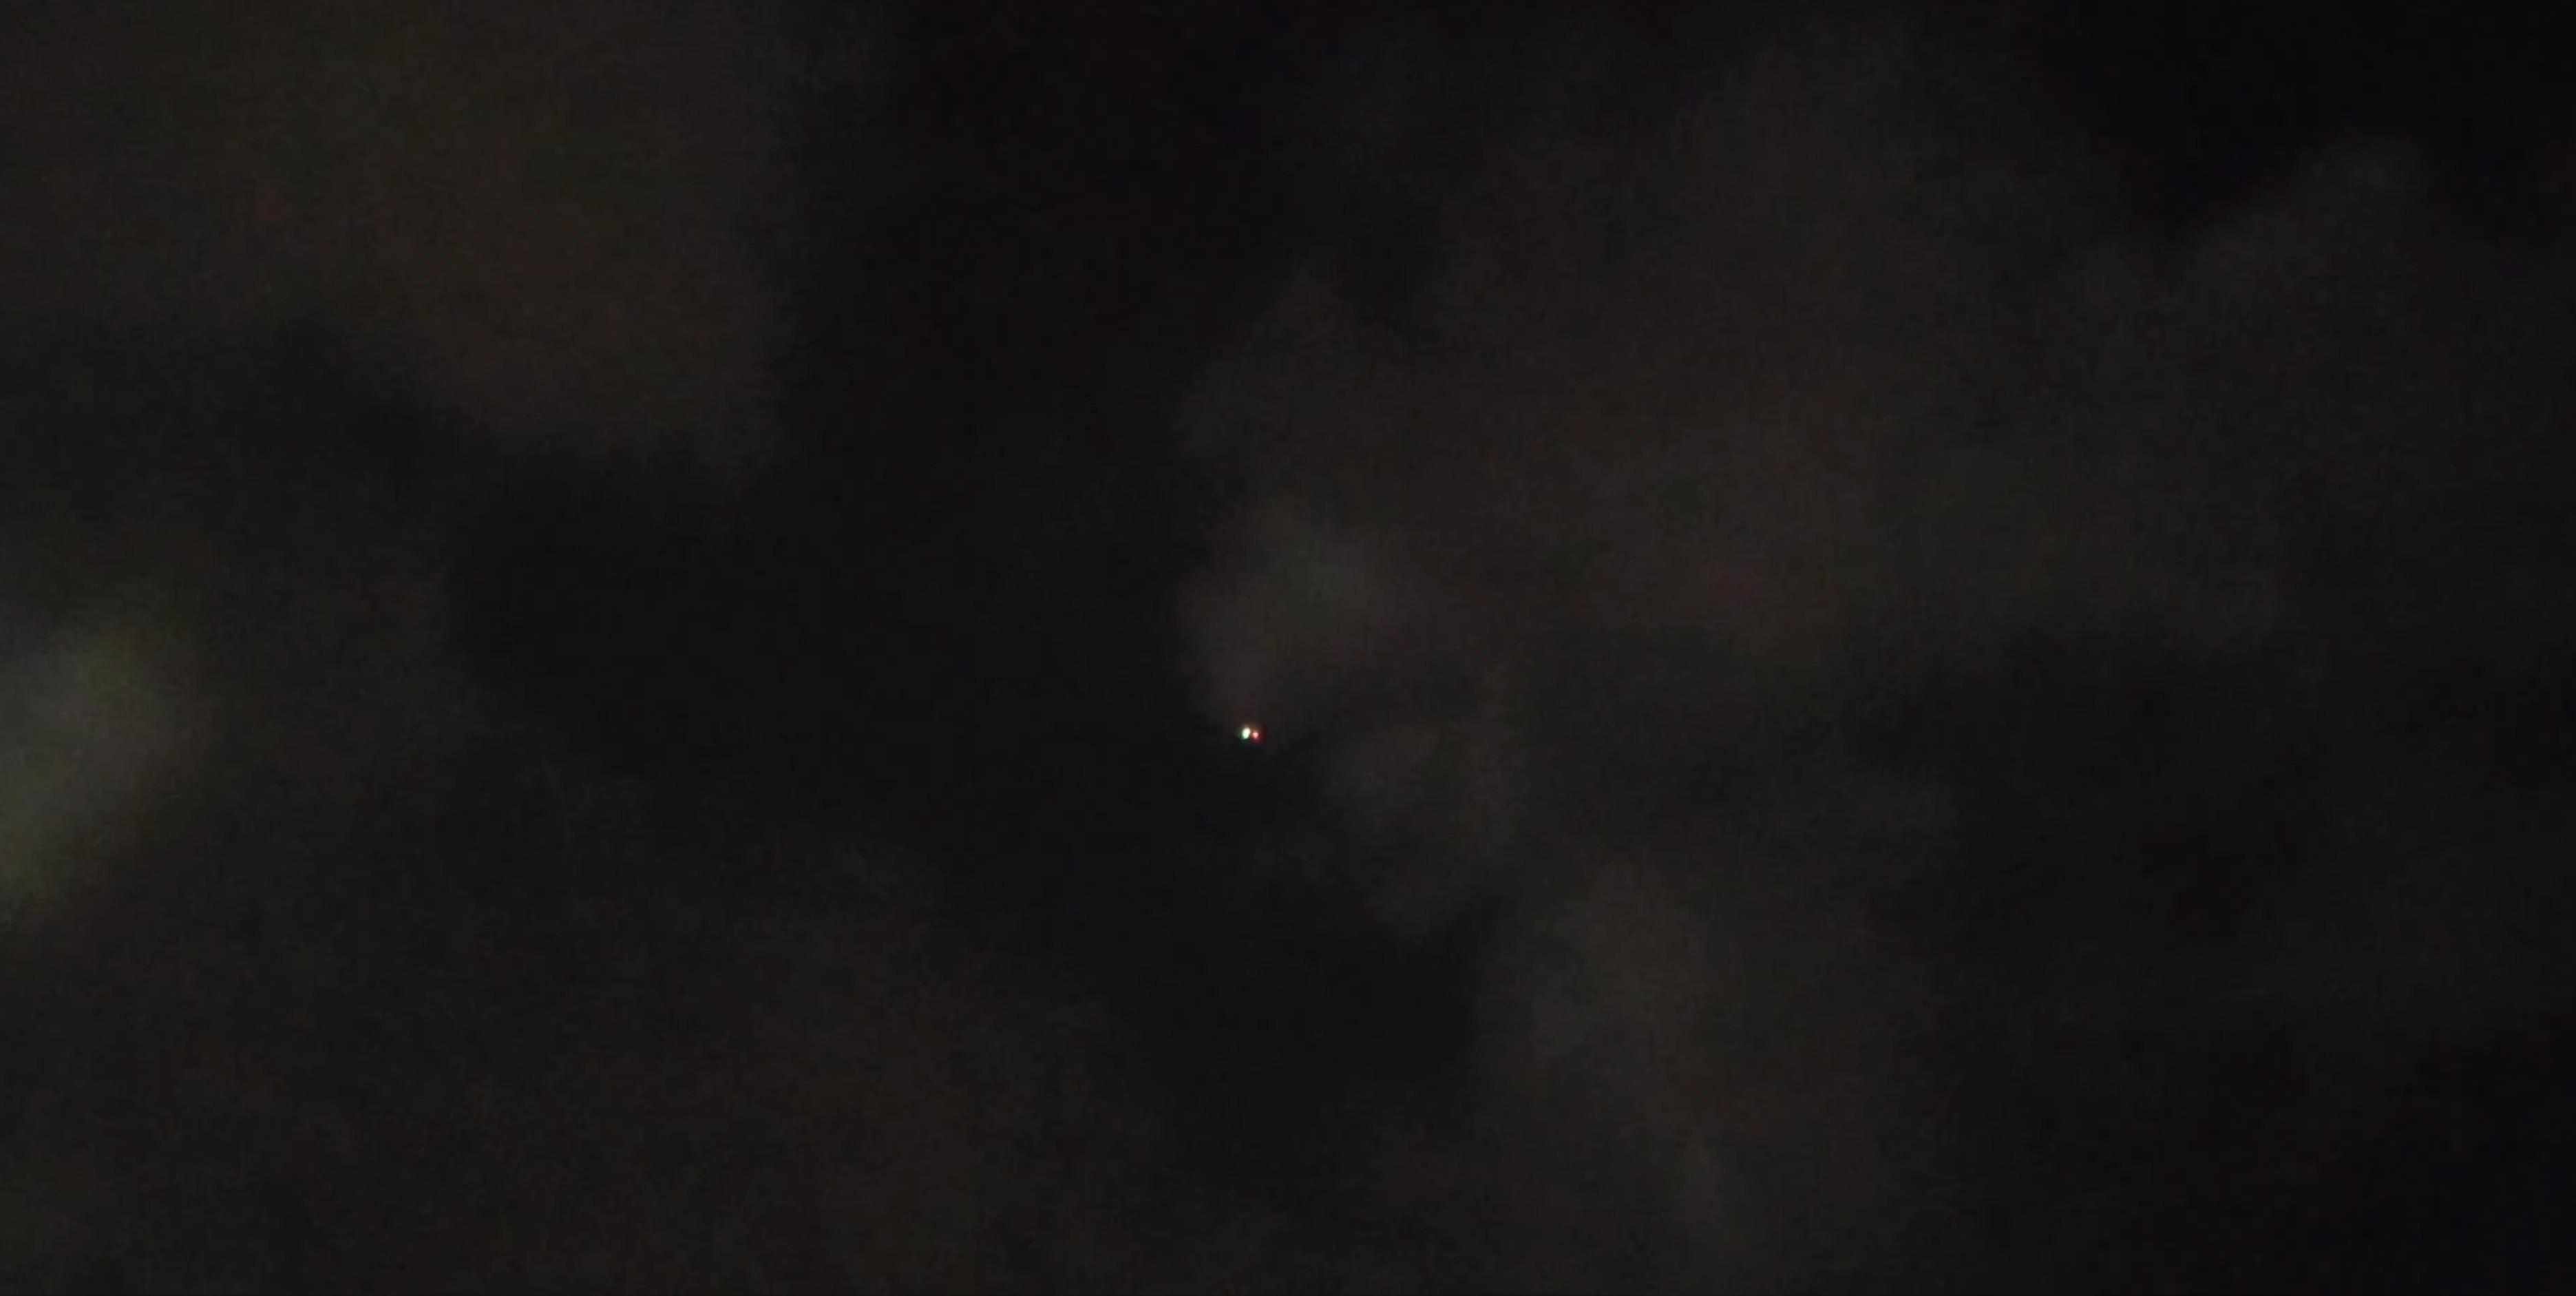Plane: (1219, 711, 1290, 750)
